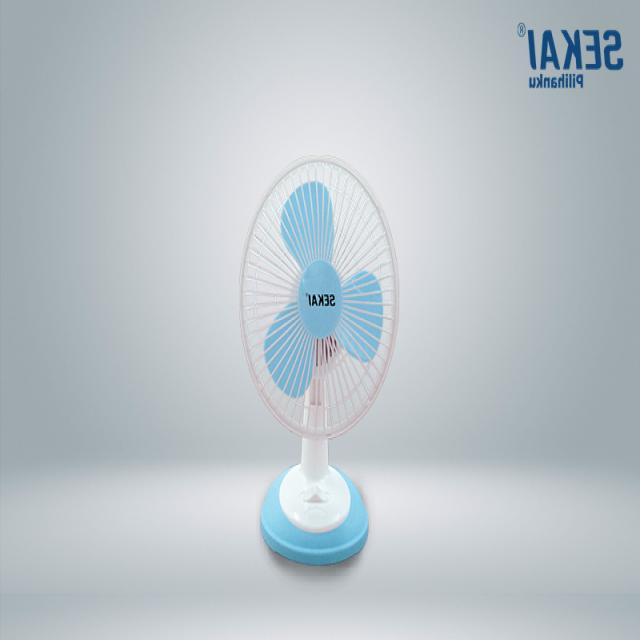fan: (238, 152, 406, 576)
